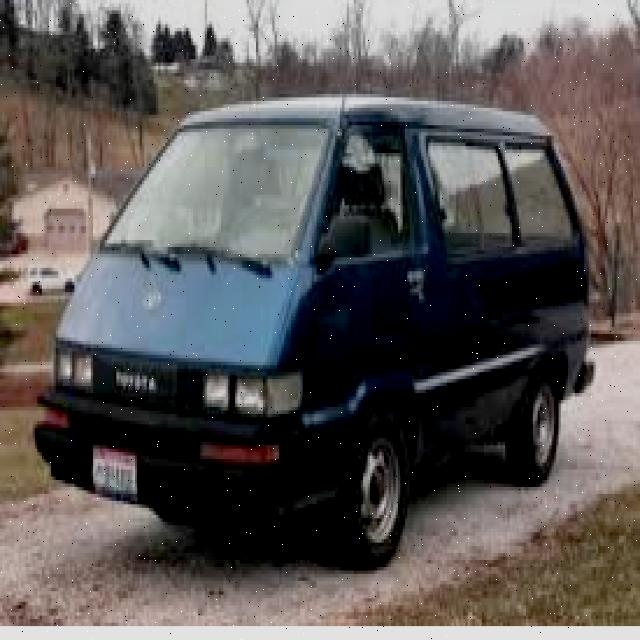Van: (39, 101, 594, 570)
